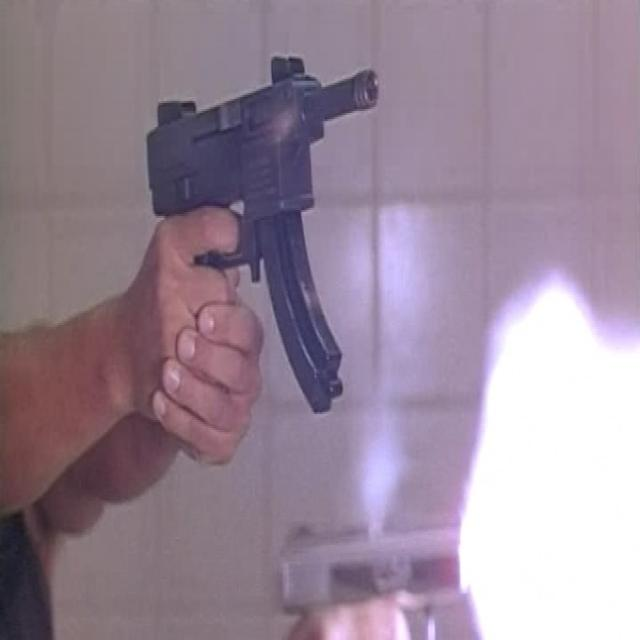weapons: (133, 32, 383, 405)
